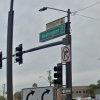Traffic light: (43, 55, 70, 92)
